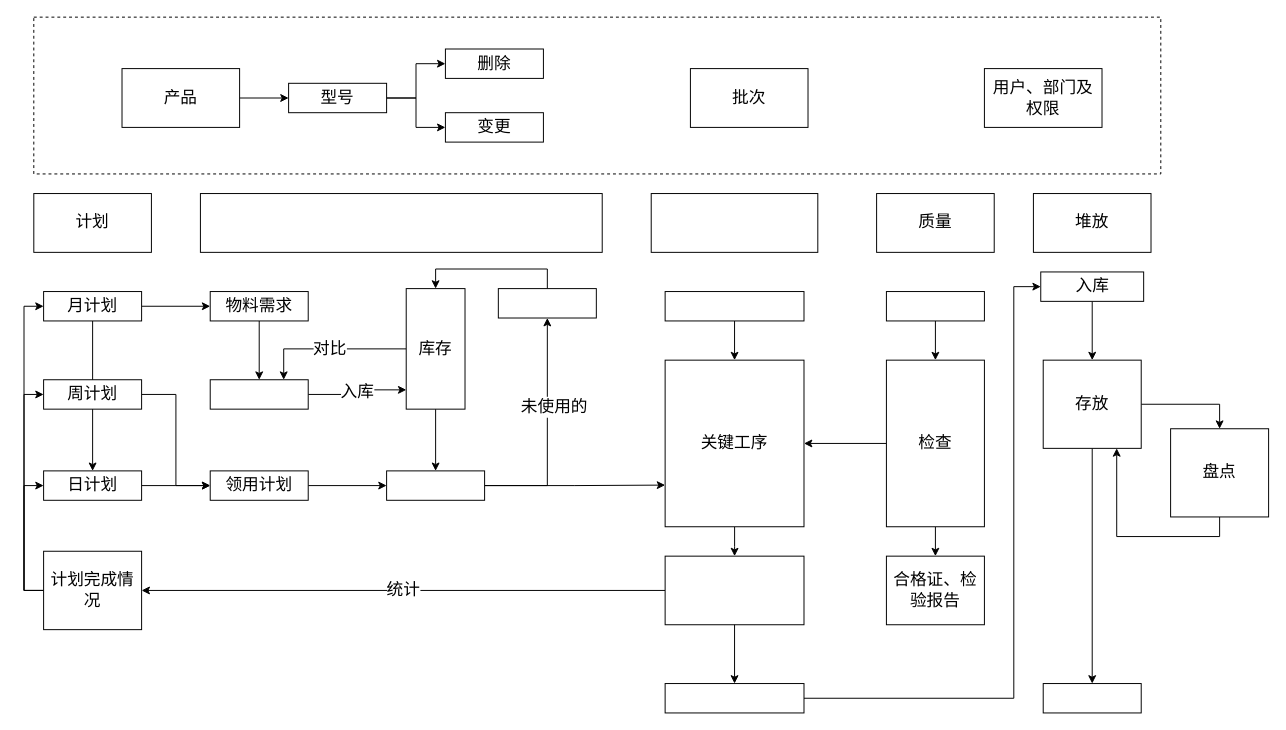
This 1286x730 diagram has some shape labels left out. The shapes that lost their labels are listed below. From the top down, each one's box as (x1, y1, x2, y2) in pixels, then its label:
(33, 16, 1161, 174): 全局
(199, 193, 602, 252): 库房
(650, 193, 818, 252): 生产
(497, 288, 596, 318): 退货
(664, 291, 804, 321): 接工
(885, 291, 984, 321): 检验任务
(209, 379, 308, 409): 采购
(386, 470, 485, 500): 领用
(664, 555, 804, 625): 报工
(664, 683, 804, 713): 码垛
(1042, 683, 1141, 713): 出库
